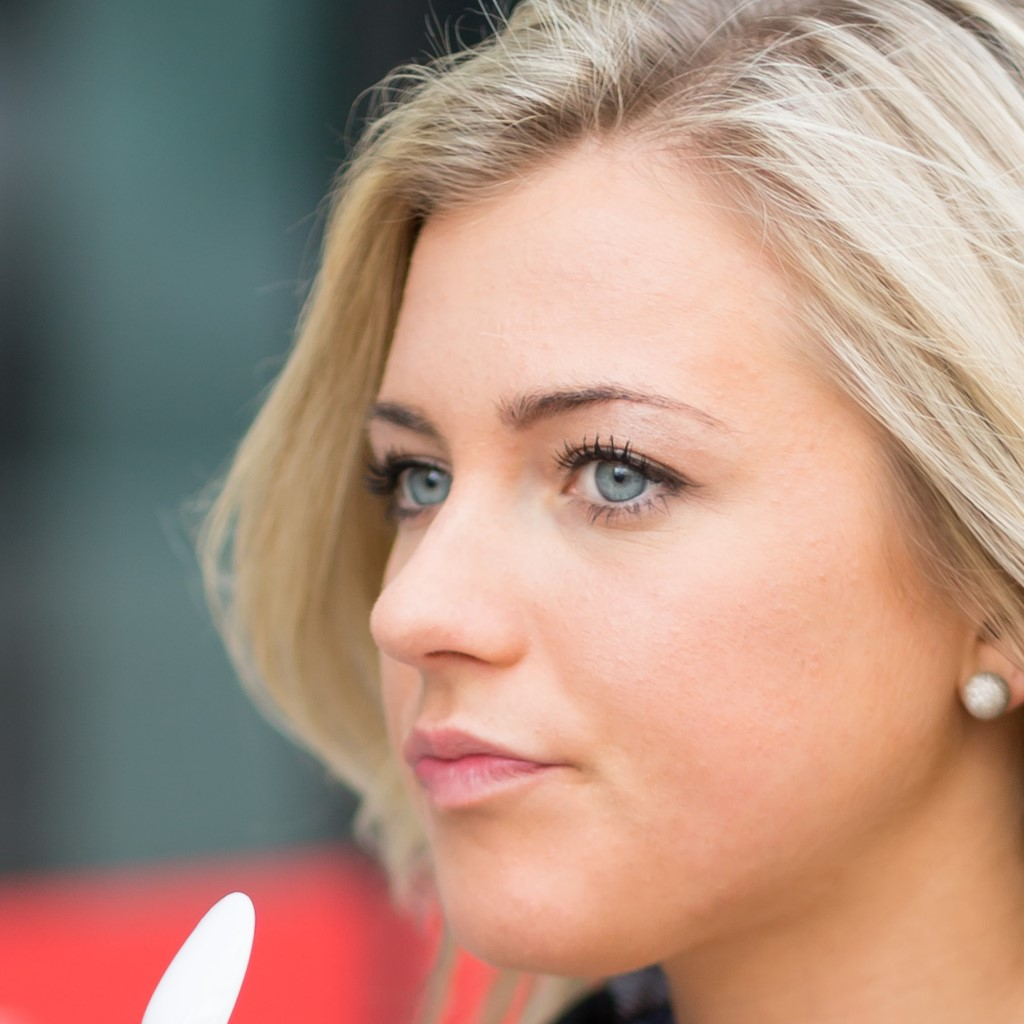sin_mascara: (356, 83, 969, 976)
